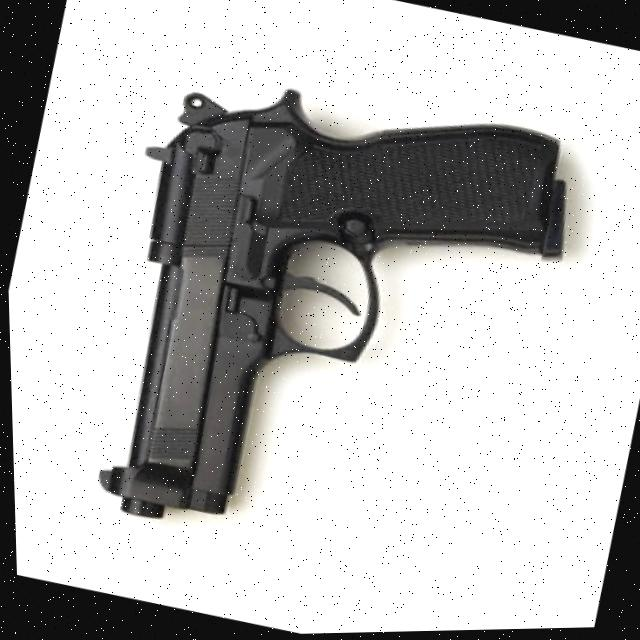pistol: (53, 43, 596, 602)
